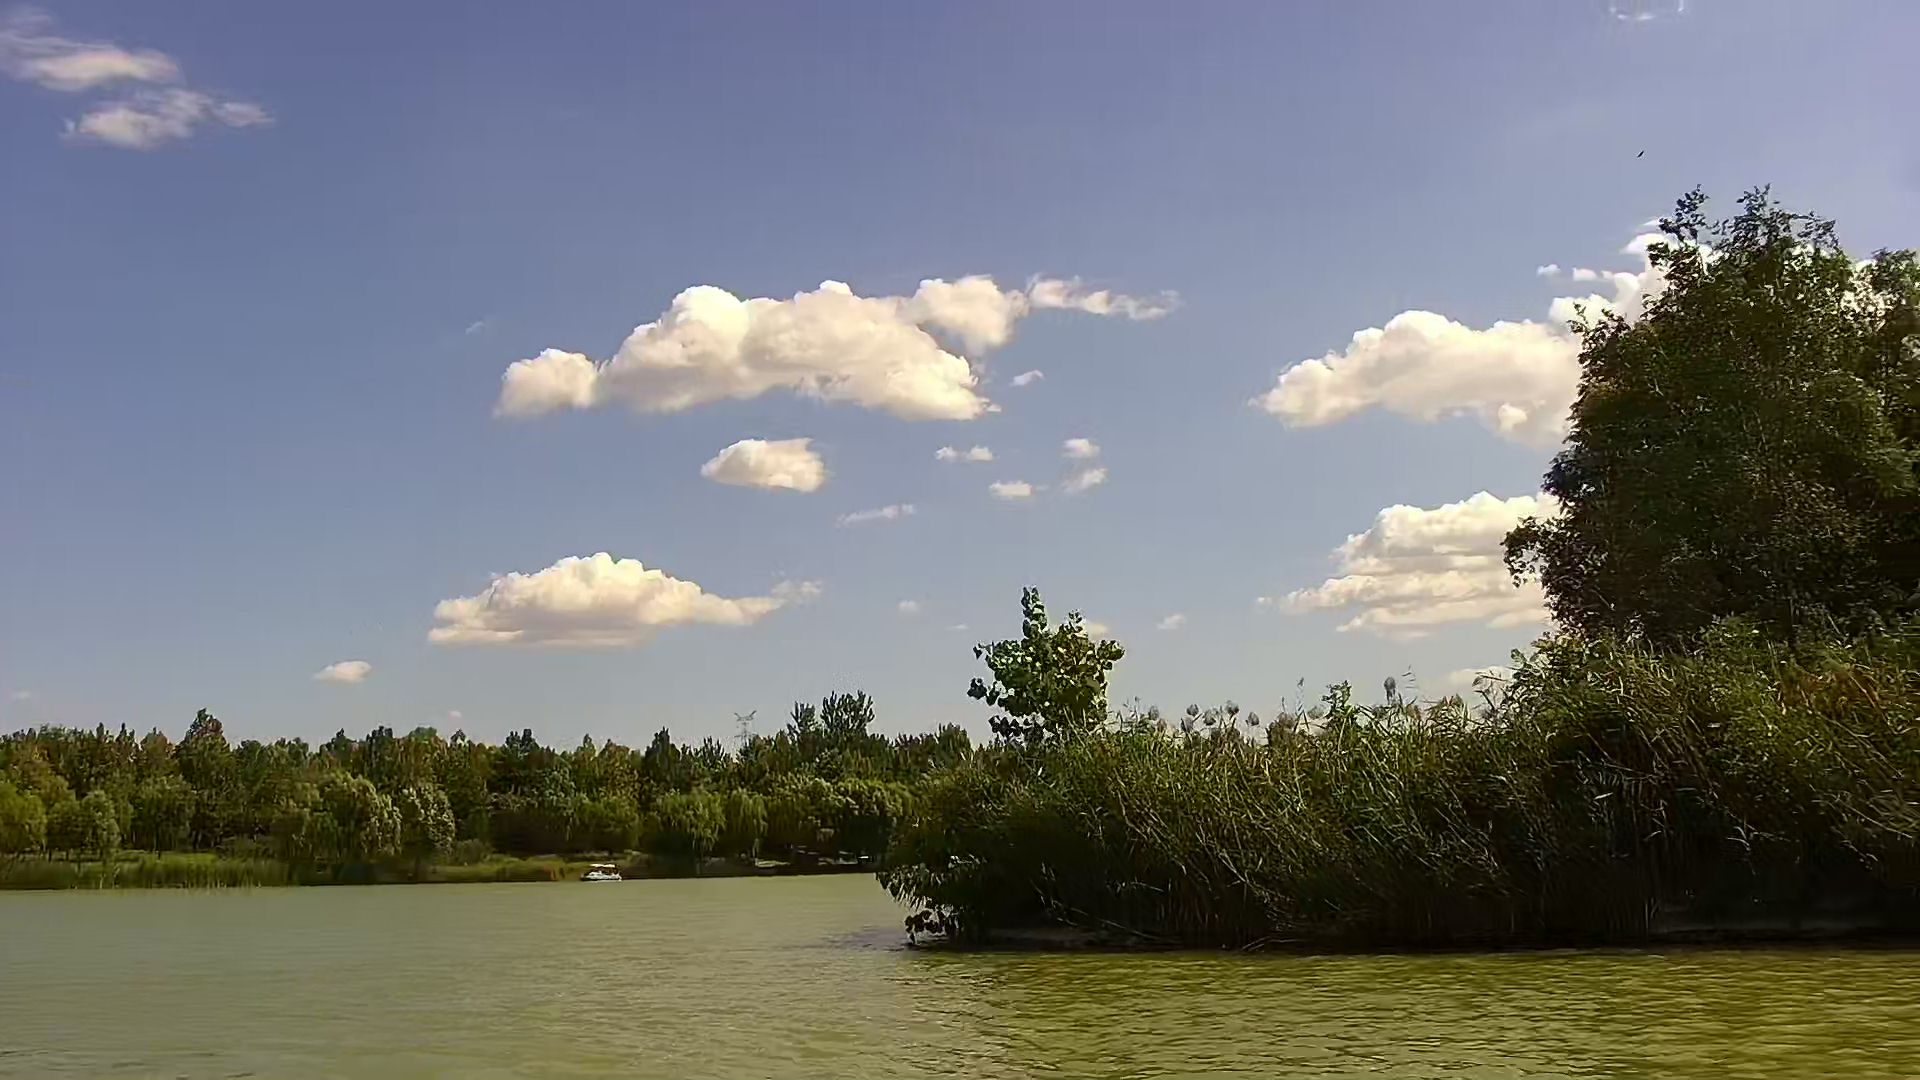boat: (582, 862, 621, 882)
